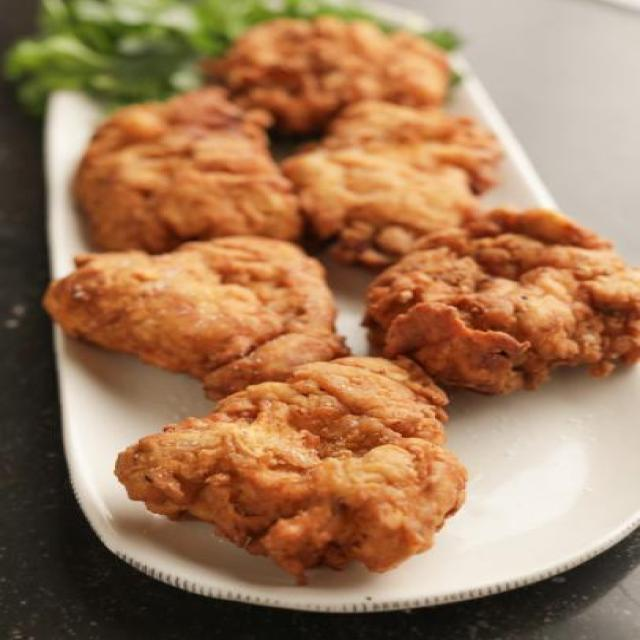Frango: (44, 12, 640, 587)
